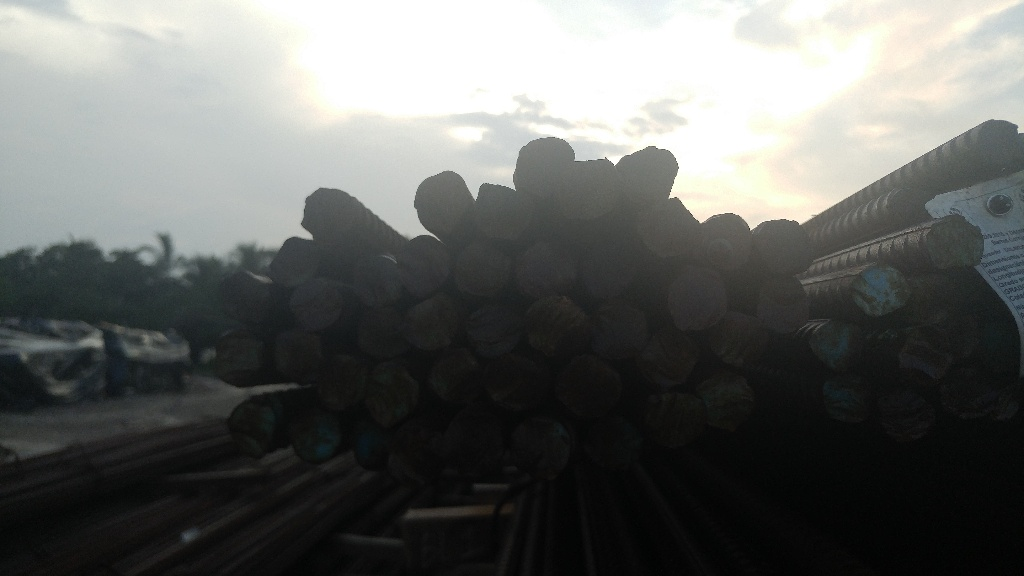dipstick: (578, 231, 645, 301), (524, 294, 589, 363), (558, 357, 626, 421), (666, 265, 728, 335), (513, 238, 577, 302), (639, 197, 701, 258), (637, 330, 702, 388), (557, 159, 617, 221), (469, 183, 532, 242), (488, 358, 553, 415), (361, 363, 418, 428), (590, 305, 651, 364), (463, 300, 526, 357), (617, 147, 677, 206), (641, 392, 704, 448), (396, 235, 451, 299), (415, 169, 469, 234), (877, 390, 939, 446), (927, 213, 985, 272), (517, 138, 575, 197), (708, 309, 769, 365), (696, 372, 756, 428), (942, 360, 997, 421), (398, 294, 458, 349), (754, 220, 812, 276), (852, 263, 911, 316), (433, 351, 488, 406), (808, 321, 865, 374), (701, 213, 753, 271), (220, 268, 272, 326), (819, 374, 876, 426), (294, 406, 345, 464), (756, 275, 808, 331), (519, 423, 570, 480), (289, 279, 346, 330), (228, 400, 279, 457), (935, 306, 985, 363), (456, 244, 509, 297), (314, 356, 362, 414), (898, 329, 953, 379), (215, 334, 265, 389), (299, 190, 354, 239), (975, 118, 1024, 170), (353, 256, 399, 307), (276, 335, 320, 385), (355, 311, 396, 358), (354, 429, 398, 471), (286, 235, 315, 287), (887, 190, 930, 225)
